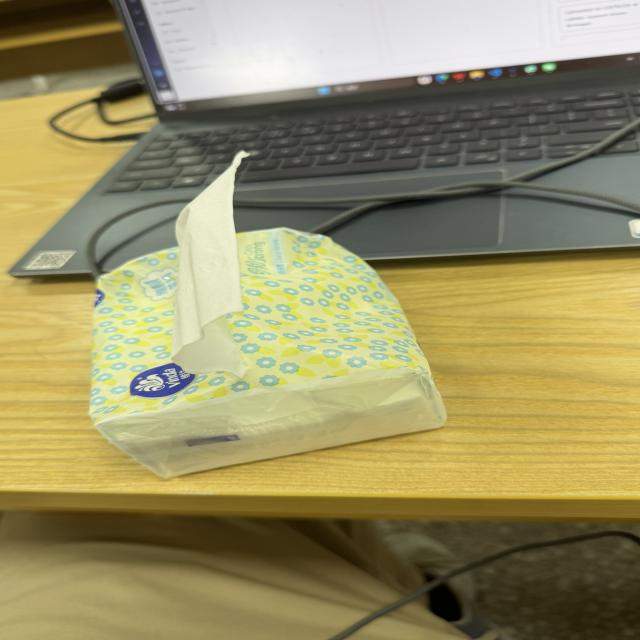tissue: (91, 155, 445, 477), (91, 229, 445, 477), (172, 152, 248, 378)
